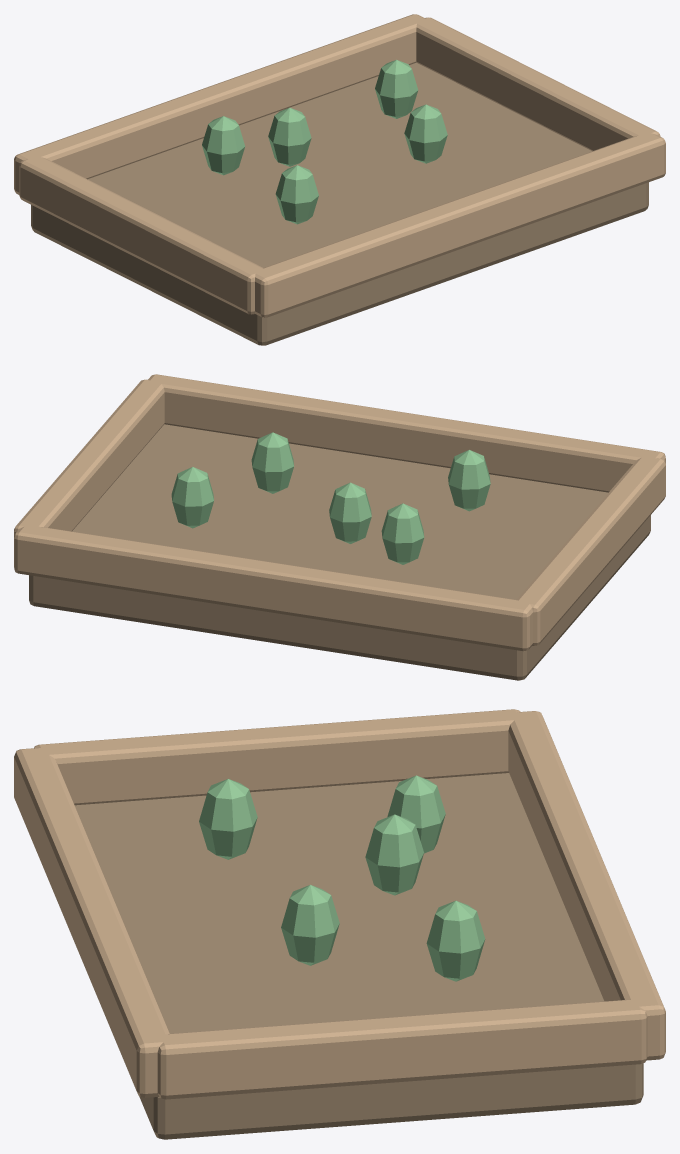
File: farm_01.glb
The picture shows the model from 3 angles, top to bottom: view 1: azimuth 30°, elevation 25°; view 2: azimuth 150°, elevation 25°; view 3: azimuth 270°, elevation 25°; orthographic projection. The views are drawn at different scales.
Visible parts, largest first — view 1: ENV_farm_01, ENV_farm_01_RailS, ENV_farm_01_RailN, ENV_farm_01_RailW, ENV_farm_01_RailE, ENV_farm_01_Crop2, ENV_farm_01_Crop4, ENV_farm_01_Crop0, ENV_farm_01_Crop1, ENV_farm_01_Crop3; view 2: ENV_farm_01, ENV_farm_01_RailN, ENV_farm_01_RailS, ENV_farm_01_RailW, ENV_farm_01_RailE, ENV_farm_01_Crop1, ENV_farm_01_Crop0, ENV_farm_01_Crop2, ENV_farm_01_Crop3, ENV_farm_01_Crop4; view 3: ENV_farm_01, ENV_farm_01_RailE, ENV_farm_01_RailW, ENV_farm_01_RailS, ENV_farm_01_RailN, ENV_farm_01_Crop1, ENV_farm_01_Crop3, ENV_farm_01_Crop0, ENV_farm_01_Crop2, ENV_farm_01_Crop4.
Boxes of the visible parts, left/top/right/bottom form: ENV_farm_01: left=31, top=62, right=648, bottom=345; ENV_farm_01_RailS: left=254, top=133, right=665, bottom=317; ENV_farm_01_RailN: left=14, top=14, right=424, bottom=194; ENV_farm_01_RailW: left=19, top=157, right=264, bottom=314; ENV_farm_01_RailE: left=415, top=17, right=660, bottom=151; ENV_farm_01_Crop2: left=404, top=104, right=447, bottom=163; ENV_farm_01_Crop4: left=202, top=116, right=245, bottom=175; ENV_farm_01_Crop0: left=275, top=165, right=318, bottom=224; ENV_farm_01_Crop1: left=268, top=107, right=311, bottom=166; ENV_farm_01_Crop3: left=375, top=59, right=418, bottom=118; ENV_farm_01: left=29, top=424, right=650, bottom=680; ENV_farm_01_RailN: left=14, top=525, right=532, bottom=651; ENV_farm_01_RailS: left=148, top=374, right=665, bottom=492; ENV_farm_01_RailW: left=516, top=457, right=665, bottom=645; ENV_farm_01_RailE: left=14, top=379, right=164, bottom=536; ENV_farm_01_Crop1: left=329, top=482, right=371, bottom=543; ENV_farm_01_Crop0: left=448, top=450, right=490, bottom=511; ENV_farm_01_Crop2: left=251, top=432, right=294, bottom=493; ENV_farm_01_Crop3: left=171, top=467, right=213, bottom=528; ENV_farm_01_Crop4: left=381, top=503, right=424, bottom=564; ENV_farm_01: left=75, top=773, right=643, bottom=1139; ENV_farm_01_RailE: left=157, top=999, right=647, bottom=1099; ENV_farm_01_RailW: left=34, top=709, right=520, bottom=805; ENV_farm_01_RailS: left=14, top=747, right=169, bottom=1097; ENV_farm_01_RailN: left=508, top=711, right=665, bottom=1060; ENV_farm_01_Crop1: left=365, top=814, right=423, bottom=895; ENV_farm_01_Crop3: left=426, top=900, right=485, bottom=981; ENV_farm_01_Crop0: left=199, top=778, right=257, bottom=859; ENV_farm_01_Crop2: left=281, top=885, right=339, bottom=965; ENV_farm_01_Crop4: left=387, top=775, right=445, bottom=853.
Size of the model in its own units: 3.25 by 0.65 by 2.62.
